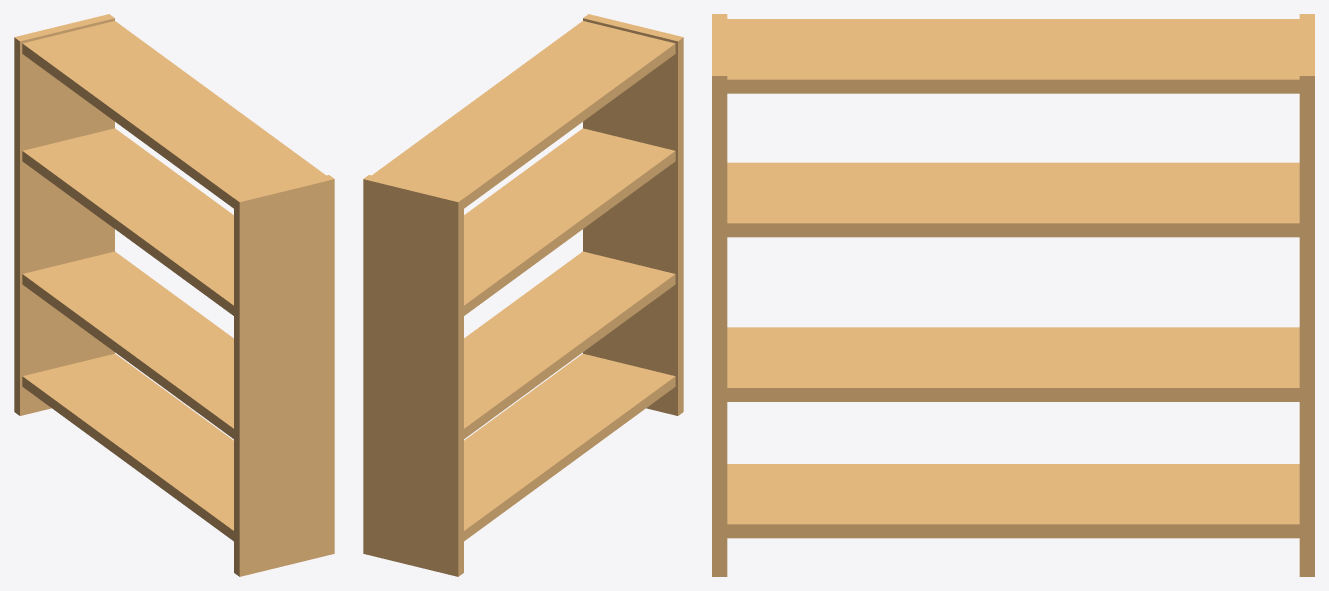
3 renders of one model, left to right at view 1: azimuth 30°, elevation 25°; view 2: azimuth 150°, elevation 25°; view 3: azimuth 270°, elevation 25°, orthographic. The views are drawn at different scales.
Parts seen in each view (by area): view 1: mesh_537364515, mesh_250719238, mesh_1800173757, mesh_1417189614, mesh_500013617, mesh_2109013487; view 2: mesh_1800173757, mesh_250719238, mesh_537364515, mesh_1417189614, mesh_500013617, mesh_2109013487; view 3: mesh_500013617, mesh_1417189614, mesh_250719238, mesh_2109013487, mesh_537364515, mesh_1800173757.
Part boxes in pixels (<box>): mesh_537364515: <box>234,175,334,576</box>; mesh_250719238: <box>22,21,325,208</box>; mesh_1800173757: <box>14,14,114,415</box>; mesh_1417189614: <box>22,251,233,438</box>; mesh_500013617: <box>22,128,233,315</box>; mesh_2109013487: <box>22,353,233,541</box>; mesh_1800173757: <box>363,175,463,576</box>; mesh_250719238: <box>372,21,675,208</box>; mesh_537364515: <box>583,14,683,415</box>; mesh_1417189614: <box>464,251,675,438</box>; mesh_500013617: <box>464,128,675,315</box>; mesh_2109013487: <box>464,353,675,541</box>; mesh_500013617: <box>727,162,1299,237</box>; mesh_1417189614: <box>727,327,1299,401</box>; mesh_250719238: <box>727,19,1299,93</box>; mesh_2109013487: <box>727,464,1299,538</box>; mesh_537364515: <box>712,14,727,576</box>; mesh_1800173757: <box>1299,14,1314,576</box>.
Bounding box in the file's own units: 38 × 143 × 156.
